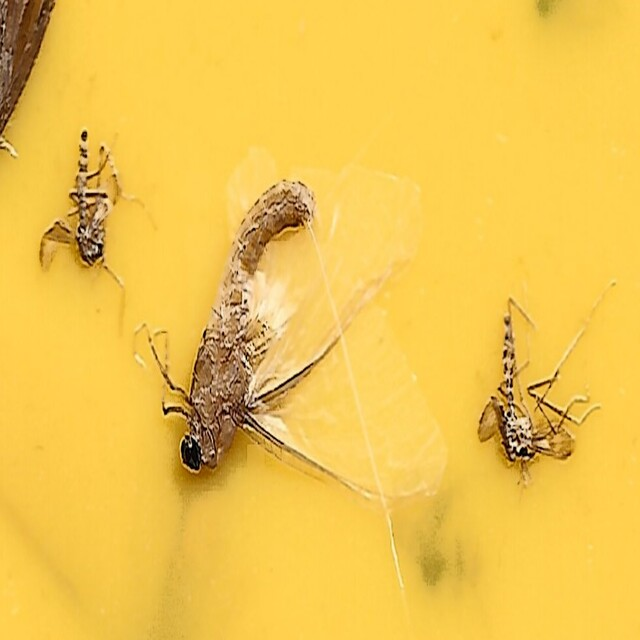Ephemeroptera: (173, 161, 443, 510)
Nematocera: (473, 310, 575, 472), (65, 130, 118, 279)
